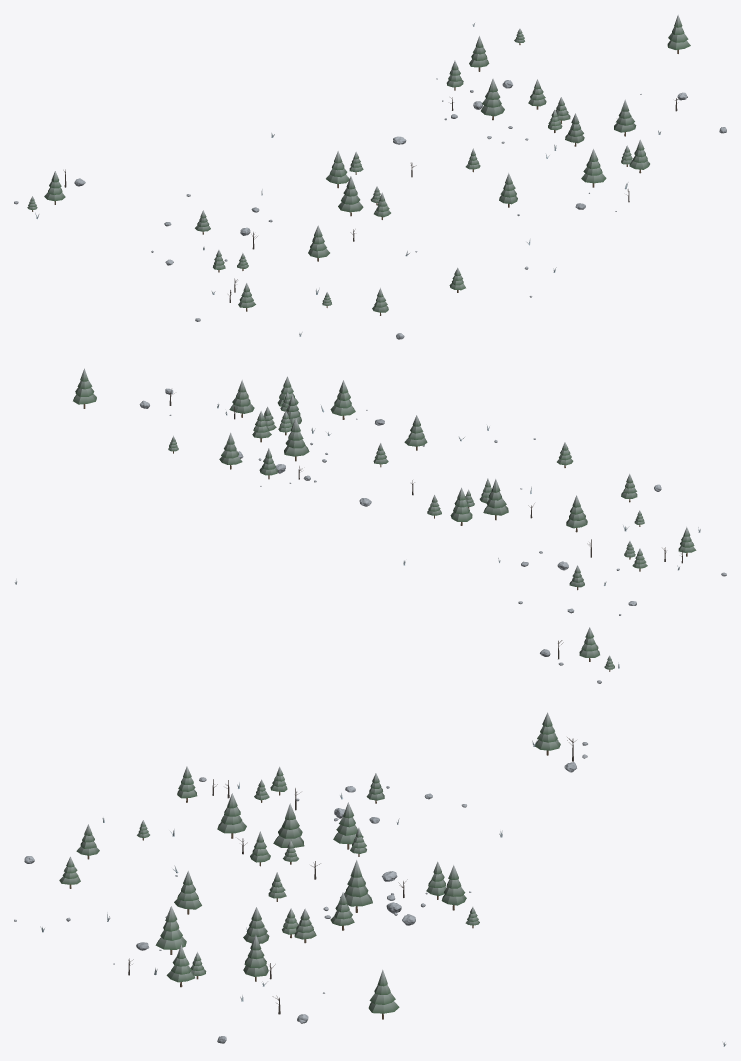
File: frost_land_scatter_c23_09.glb
3 views of the same model, one above another, from view 1: azimuth 30°, elevation 25°; view 2: azimuth 150°, elevation 25°; view 3: azimuth 270°, elevation 25° (orthographic). The views are drawn at different scales.
Visible parts, largest first — view 1: frost_land_scatter_c23_09; view 2: frost_land_scatter_c23_09; view 3: frost_land_scatter_c23_09.
Boxes of the visible parts, x1=… form: frost_land_scatter_c23_09: x1=14, y1=14, x2=726, y2=339; frost_land_scatter_c23_09: x1=14, y1=368, x2=726, y2=683; frost_land_scatter_c23_09: x1=14, y1=712, x2=725, y2=1046.
Bounding box in the file's own units: 254 × 49.93 × 210.
